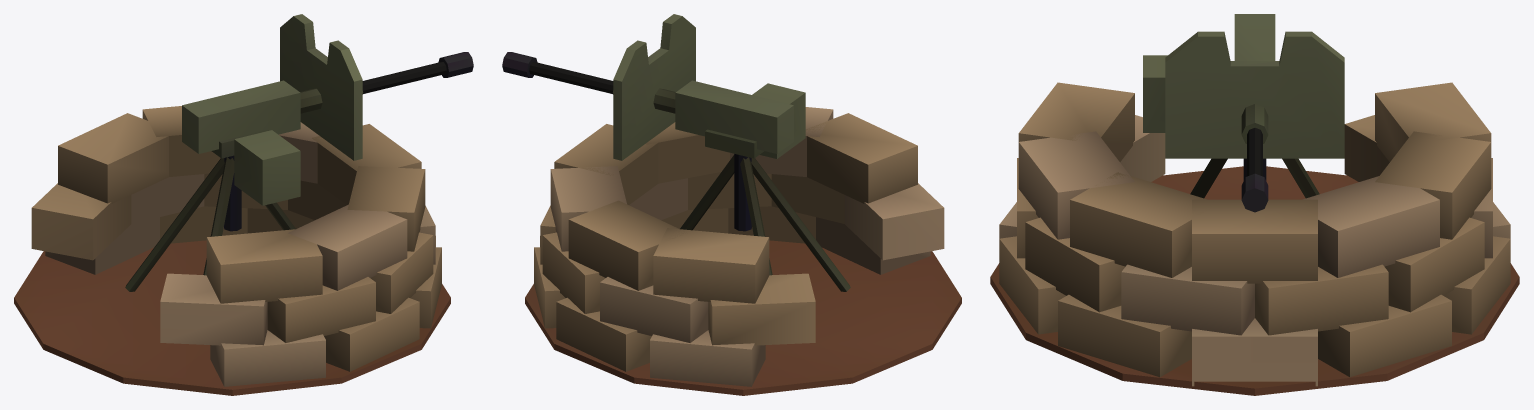
Rendered from prop.hmg-nest.lod1.glb.
The picture shows the model from 3 angles, left to right: view 1: azimuth 30°, elevation 25°; view 2: azimuth 150°, elevation 25°; view 3: azimuth 270°, elevation 25°; orthographic projection. The views are drawn at different scales.
Visible parts, largest first — view 1: body, gun; view 2: body, gun; view 3: body, gun.
Part boxes in pixels (x1=…): body: x1=14, y1=106, x2=450, y2=395; gun: x1=182, y1=14, x2=473, y2=205; body: x1=525, y1=107, x2=961, y2=395; gun: x1=502, y1=14, x2=805, y2=160; body: x1=990, y1=82, x2=1519, y2=395; gun: x1=1143, y1=14, x2=1344, y2=212.
Size of the model in its own units: 2.92 by 1.64 by 2.6.
